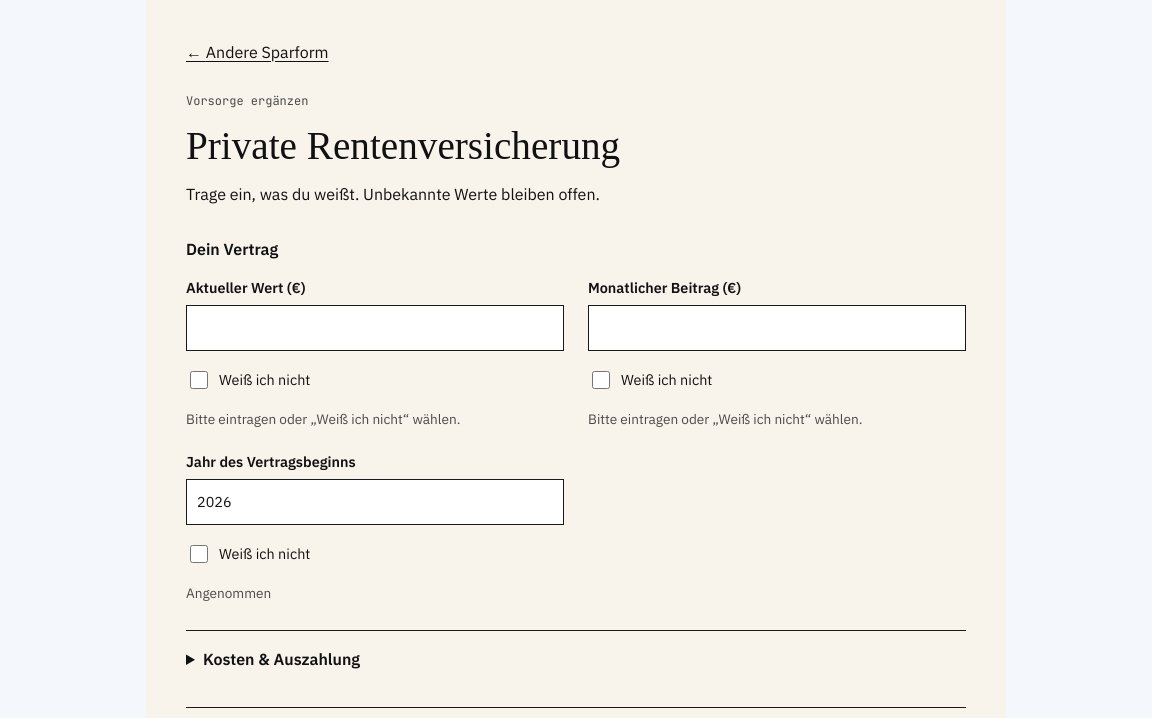
it: contract editor with real draft hook › shows conditional insurance classification and preserves the three payout modes
Replace the text in the number field labelled "Jahr des Vertragsbeginns" with "2000" at (375, 502), box [187, 480, 563, 524]
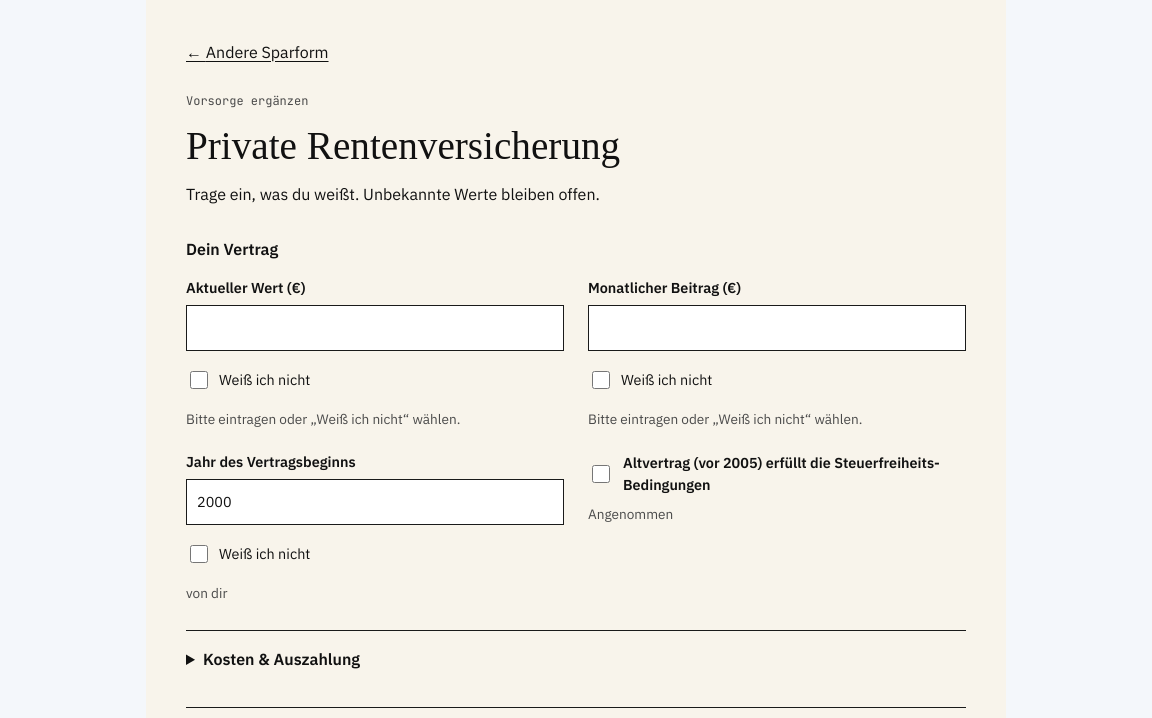
Expected: the 3rd checkbox is shown, [592, 465, 610, 483]
Click the heading "Kosten & Auszahlung" at (281, 659), box [203, 649, 360, 669]
(page scrolled)
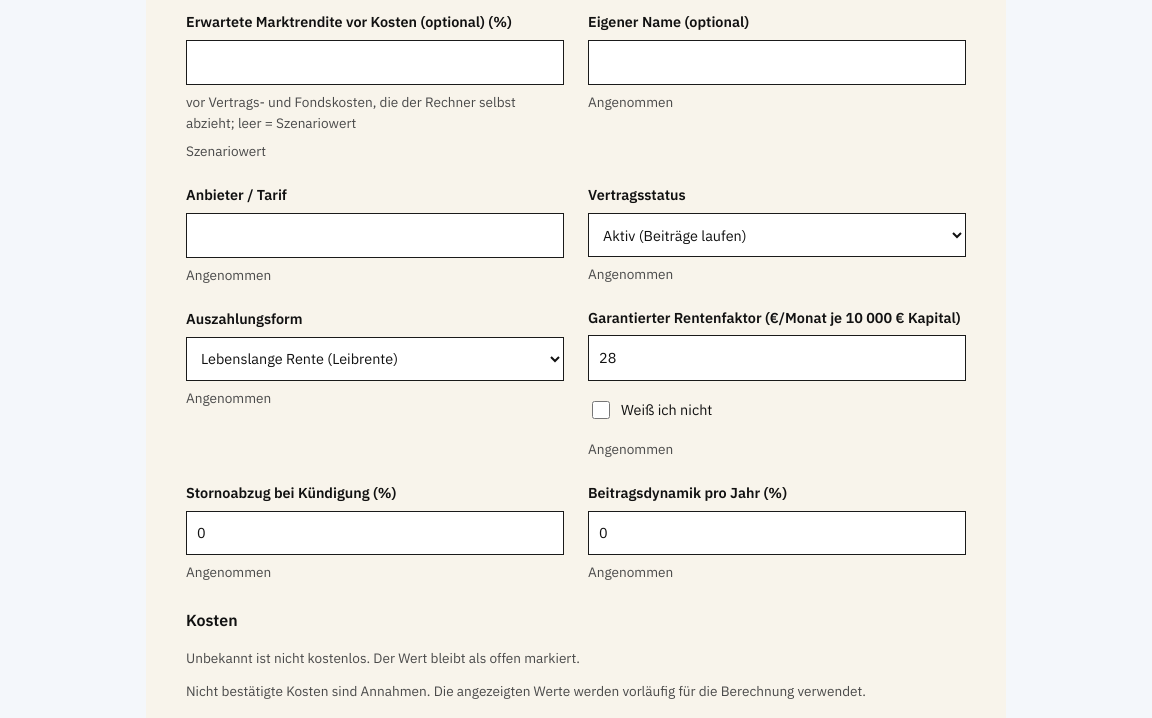
Select "Zeitrente (befristet)" in the dropdown labelled "Auszahlungsform" at (375, 359), box [186, 337, 564, 381]
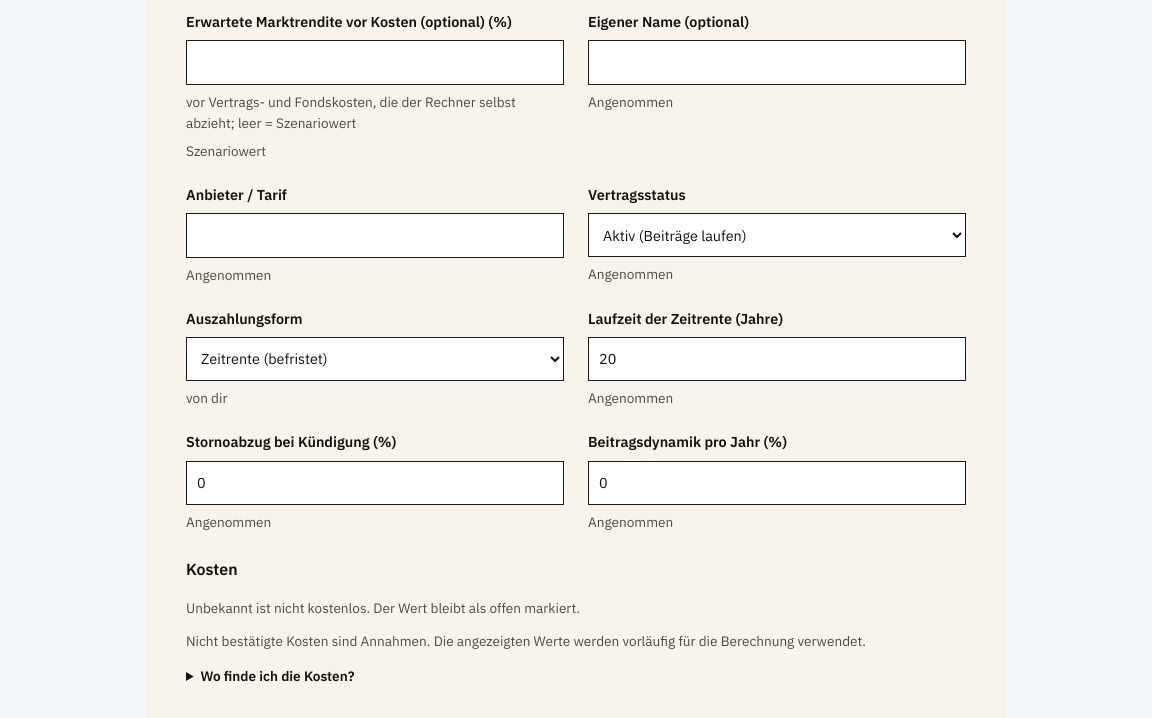
Expected: the number field labelled "Laufzeit der Zeitrente (Jahre)" is shown, [588, 337, 966, 381]
Select "Kapitalentnahme" in the dropdown labelled "Auszahlungsform" at (375, 359), box [186, 337, 564, 381]
(page scrolled)
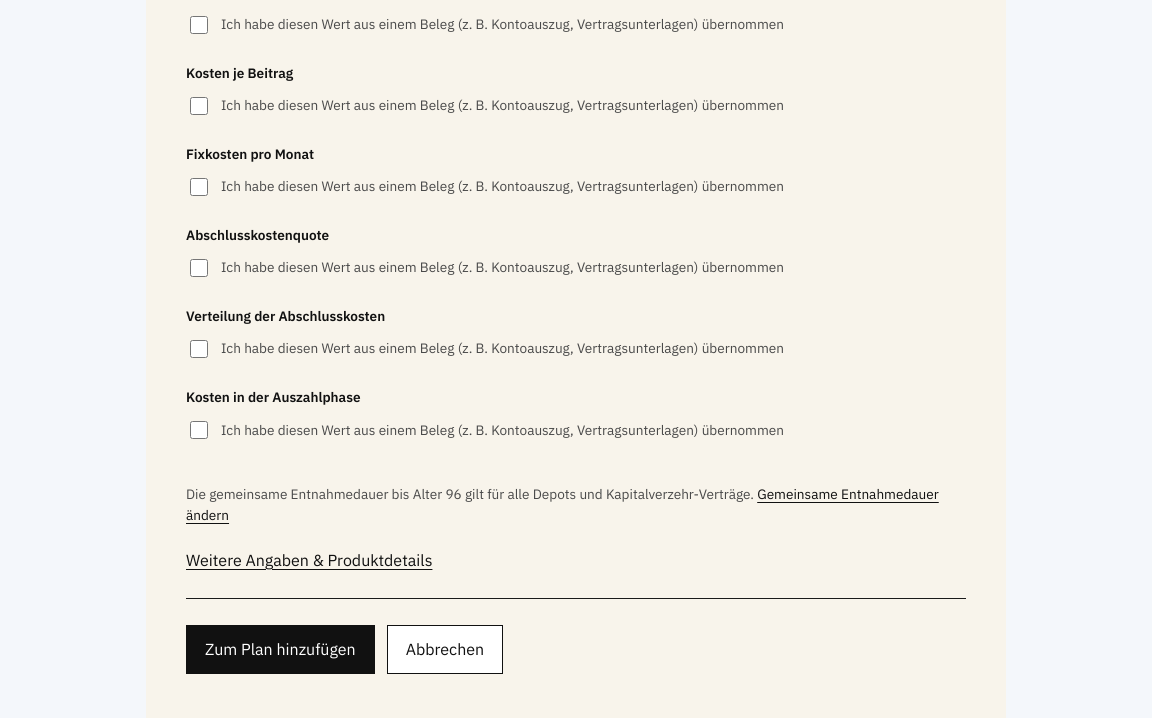
Expected: the text "Die gemeinsame Entnahmedauer" is shown, [186, 485, 445, 503]
